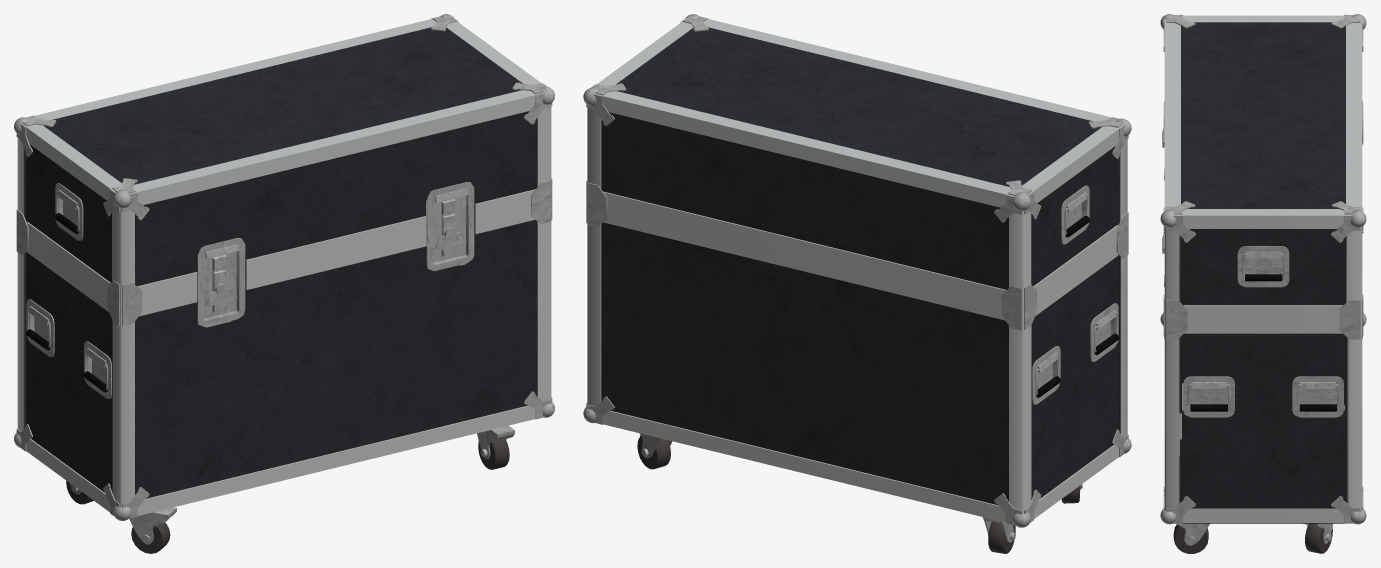
Rendered from FlightCase01.FBX.
The picture shows the model from 3 angles, left to right: view 1: azimuth 30°, elevation 25°; view 2: azimuth 150°, elevation 25°; view 3: azimuth 270°, elevation 25°; orthographic projection. The views are drawn at different scales.
Visible parts, largest first — view 1: FlightCase01; view 2: FlightCase01; view 3: FlightCase01.
Boxes of the visible parts, box(x1,y1,x2,y2) form: FlightCase01: box(14, 14, 554, 553); FlightCase01: box(583, 14, 1131, 553); FlightCase01: box(1160, 14, 1366, 553).
Bounding box in the file's own units: 118 × 97.44 × 50.7.
